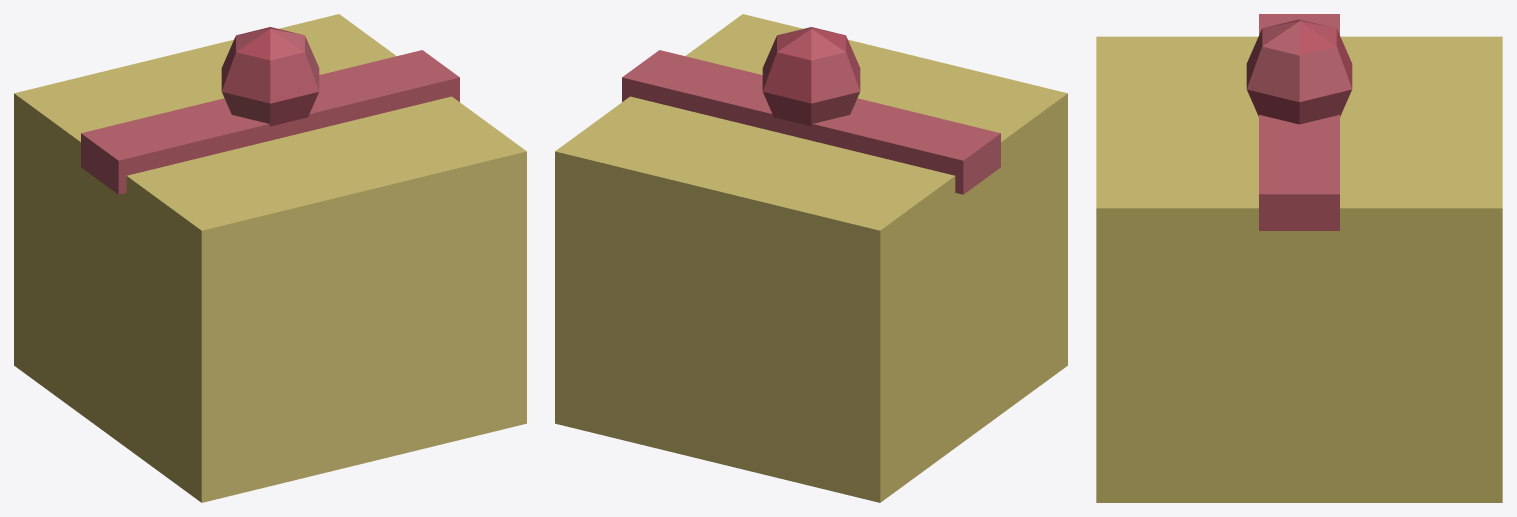
The model's file is valuable.glb.
3 renders of one model, left to right at view 1: azimuth 30°, elevation 25°; view 2: azimuth 150°, elevation 25°; view 3: azimuth 270°, elevation 25°, orthographic. The views are drawn at different scales.
Visible parts, largest first — view 1: valuable2; view 2: valuable2; view 3: valuable2.
Boxes of the visible parts, box(x1,y1,x2,y2) form: valuable2: box(14, 14, 526, 502); valuable2: box(555, 14, 1067, 502); valuable2: box(1096, 14, 1502, 502).
Size of the model in its own units: 0.42 by 0.43 by 0.4.
